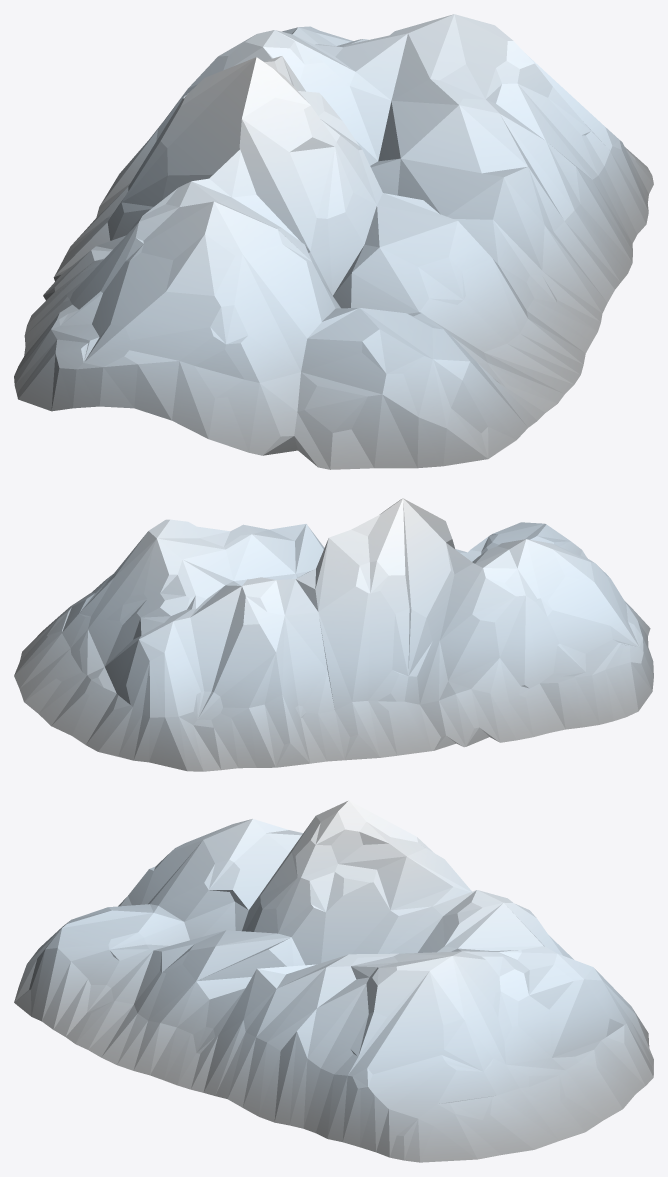
File: Mountain_003.FBX
3 views of the same model, one above another, from view 1: azimuth 30°, elevation 25°; view 2: azimuth 150°, elevation 25°; view 3: azimuth 270°, elevation 25° (orthographic). The views are drawn at different scales.
Visible parts, largest first — view 1: Mountain_003; view 2: Mountain_003; view 3: Mountain_003.
Part boxes in pixels (x1,y1,x2,y2): Mountain_003: (14, 14, 653, 469); Mountain_003: (14, 498, 653, 771); Mountain_003: (14, 800, 653, 1162).
Bounding box in the file's own units: 2302 × 780 × 2284.
1 material, 1 textured.
